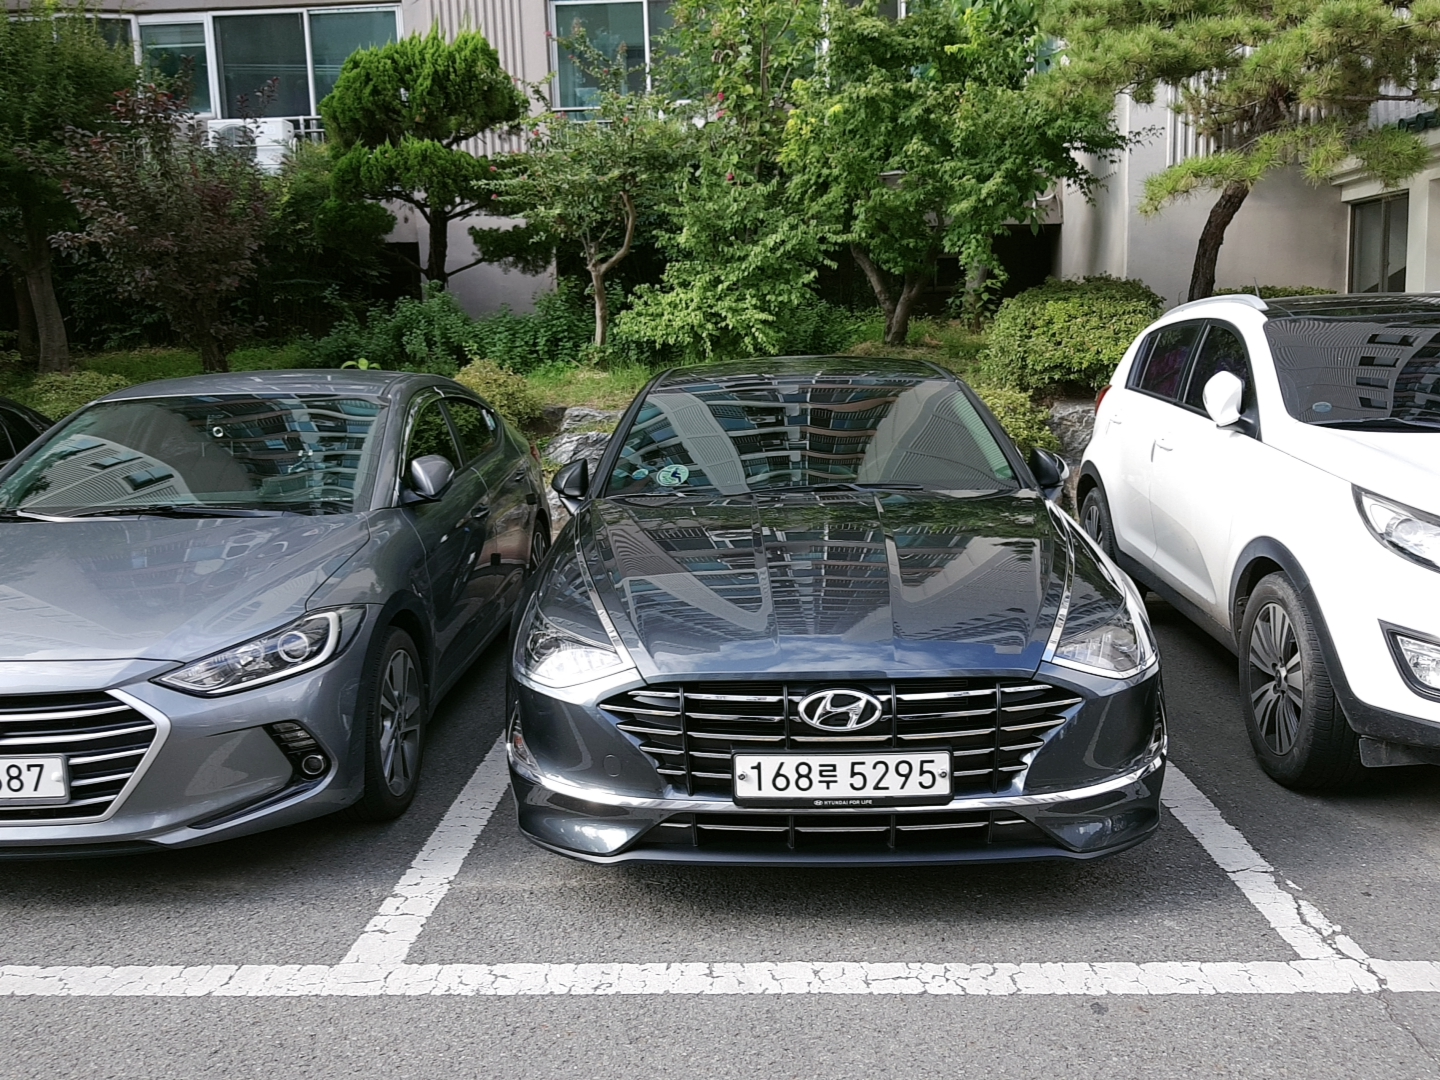apart_parking: (1311, 395, 1337, 417), (629, 466, 651, 481)
disabled_parking: (657, 462, 692, 486)
